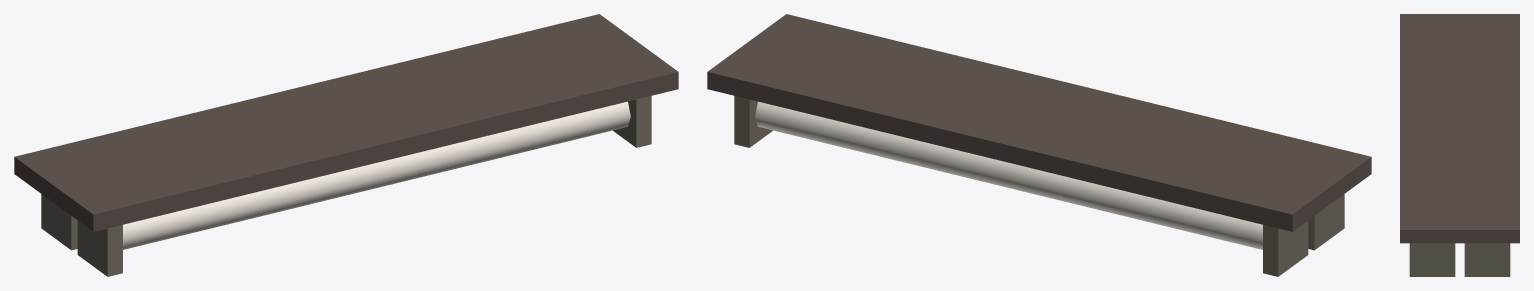
The model's file is Fluorescent Light (1).fbx.
3 renders of one model, left to right at view 1: azimuth 30°, elevation 25°; view 2: azimuth 150°, elevation 25°; view 3: azimuth 270°, elevation 25°, orthographic. The views are drawn at different scales.
Visible parts, largest first — view 1: L_Light, R_Light; view 2: L_Light, Backing; view 3: L_Light.
Boxes of the visible parts, x1=… form: L_Light: x1=14, y1=14, x2=678, y2=276; R_Light: x1=123, y1=101, x2=630, y2=249; L_Light: x1=707, y1=14, x2=1371, y2=276; Backing: x1=755, y1=101, x2=1262, y2=249; L_Light: x1=1400, y1=14, x2=1519, y2=276.
Size of the model in its own units: 0.0356 by 0.00419 by 0.00834.
